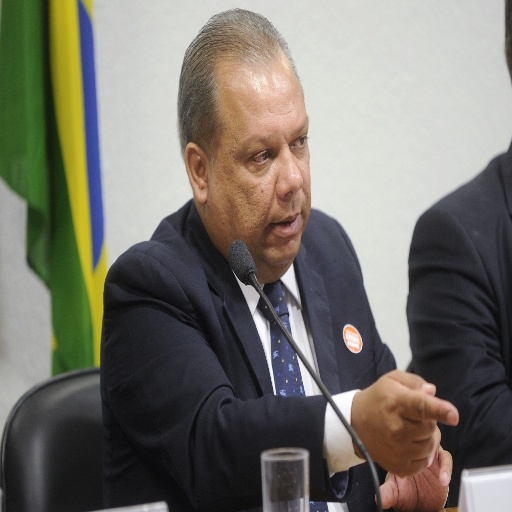hand: (363, 364, 454, 480), (374, 444, 453, 511)
